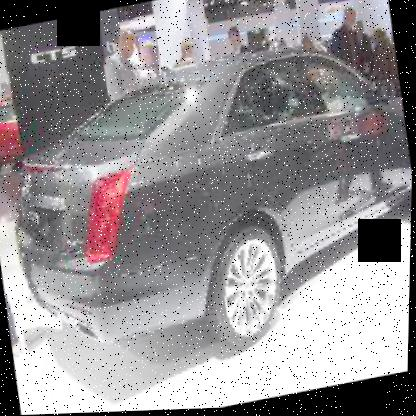not_emergency: (0, 26, 414, 362)
